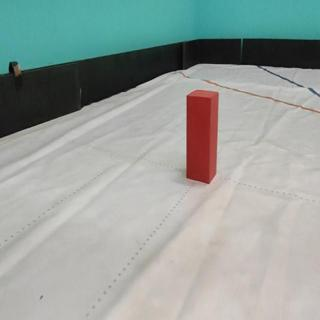redbox: (185, 89, 218, 186)
